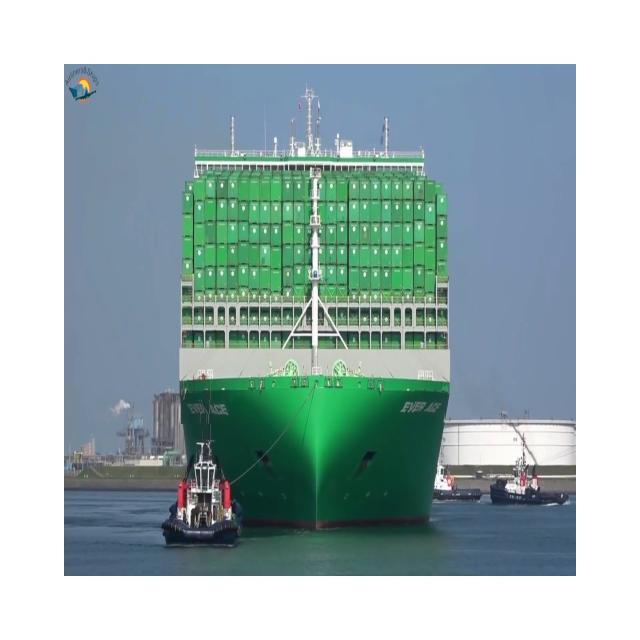OCR: (392, 387, 446, 424), (181, 391, 233, 424)
